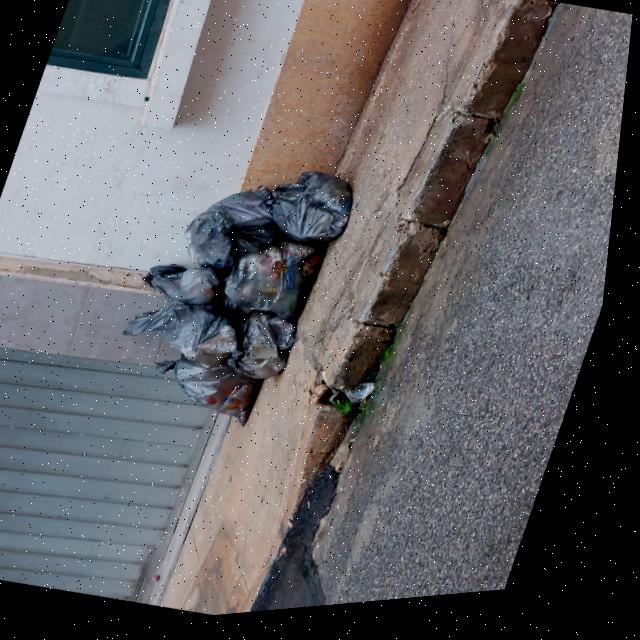Mixed Waste -Black Bag-: (182, 175, 300, 283), (223, 231, 337, 335), (131, 290, 261, 381), (164, 348, 281, 441), (262, 165, 370, 262), (137, 252, 243, 321), (237, 314, 314, 397)
